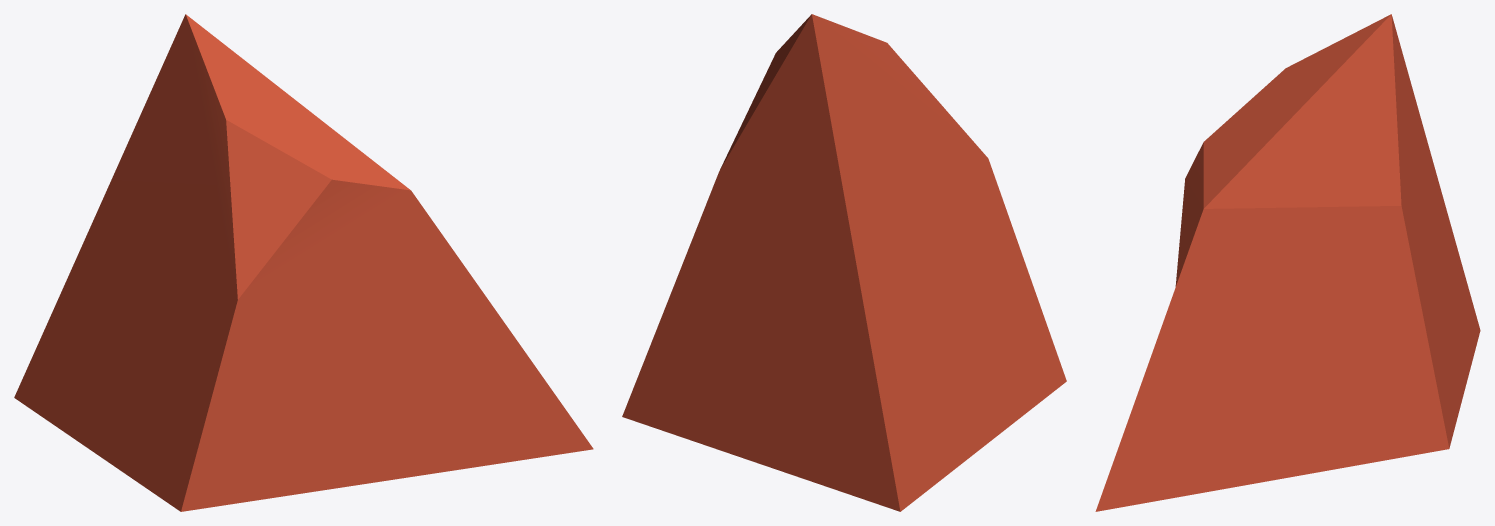
File: Stones_7.fbx
3 views of the same model, side by side, from view 1: azimuth 30°, elevation 25°; view 2: azimuth 150°, elevation 25°; view 3: azimuth 270°, elevation 25° (orthographic). The views are drawn at different scales.
Visible parts, largest first — view 1: Stones_7; view 2: Stones_7; view 3: Stones_7.
Boxes of the visible parts, left/top/right/bottom form: Stones_7: left=14, top=14, right=593, bottom=511; Stones_7: left=622, top=14, right=1066, bottom=511; Stones_7: left=1095, top=14, right=1480, bottom=511.
Bounding box in the file's own units: 11.74 × 11.35 × 10.53.
1 material, 1 textured.
